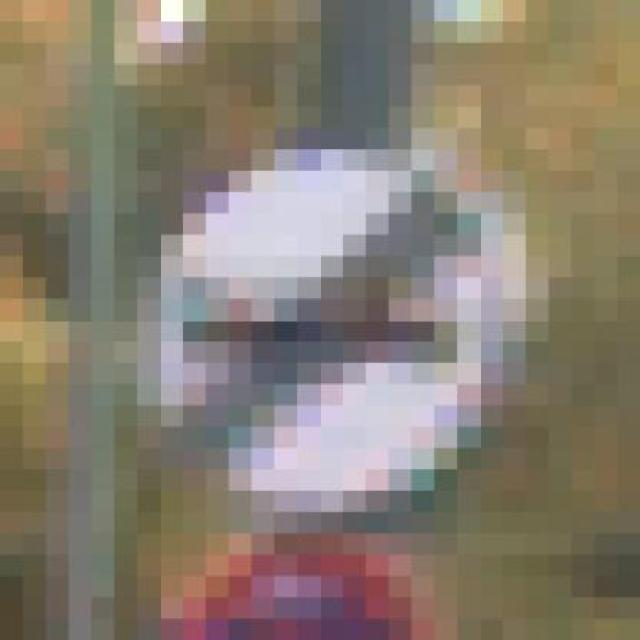No_Over_Taking: (68, 85, 594, 533)
